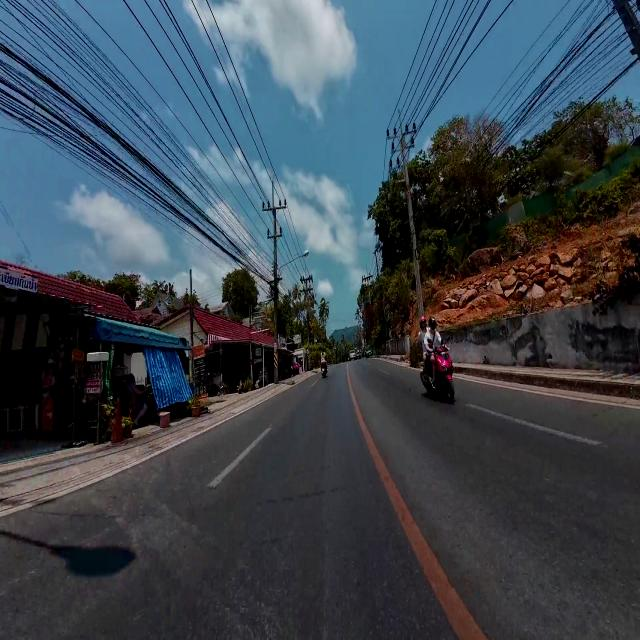car: (349, 350, 356, 360), (365, 347, 372, 357)
motorcycle: (420, 345, 454, 402), (321, 362, 327, 377)
